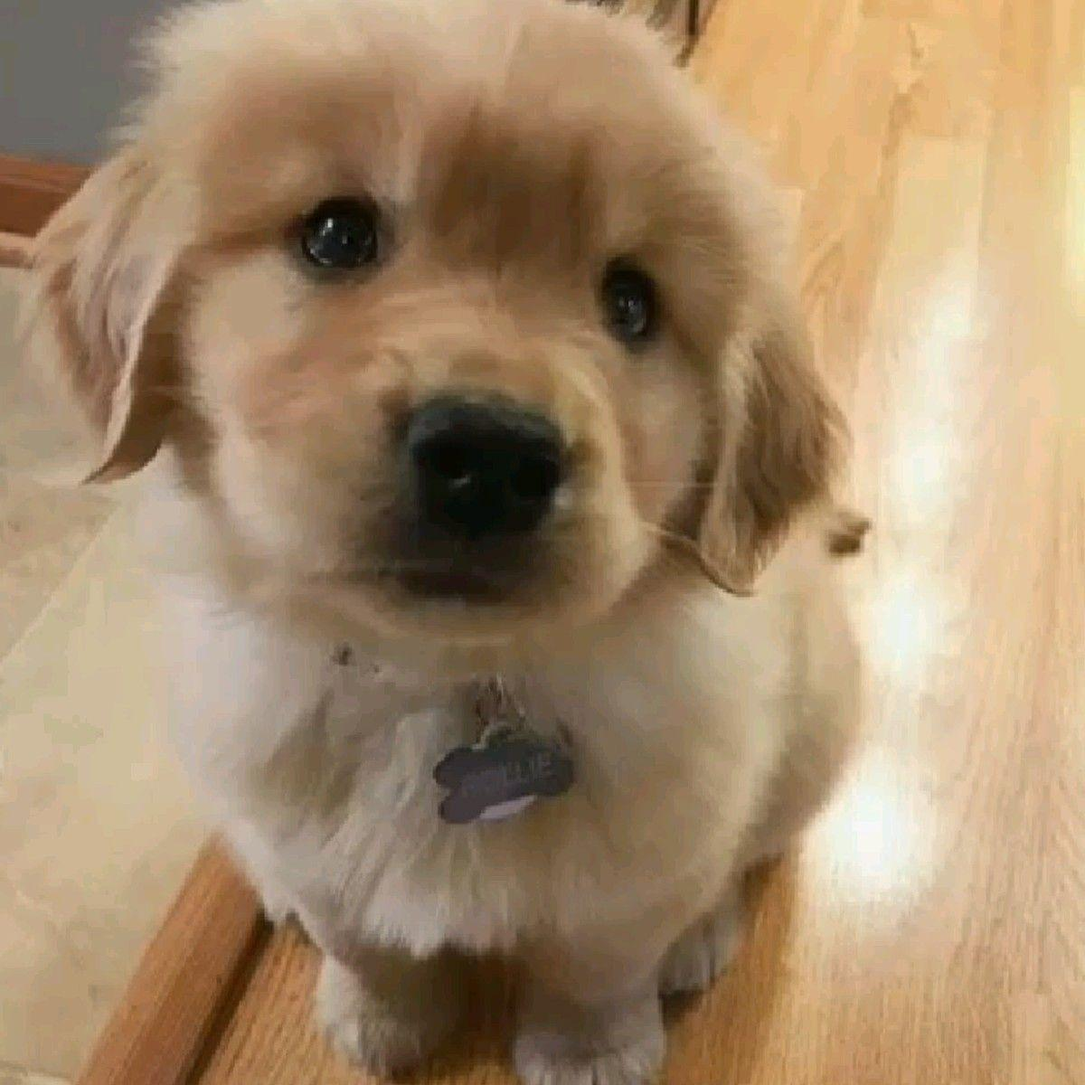puppy-dog: (14, 1, 876, 1085)
